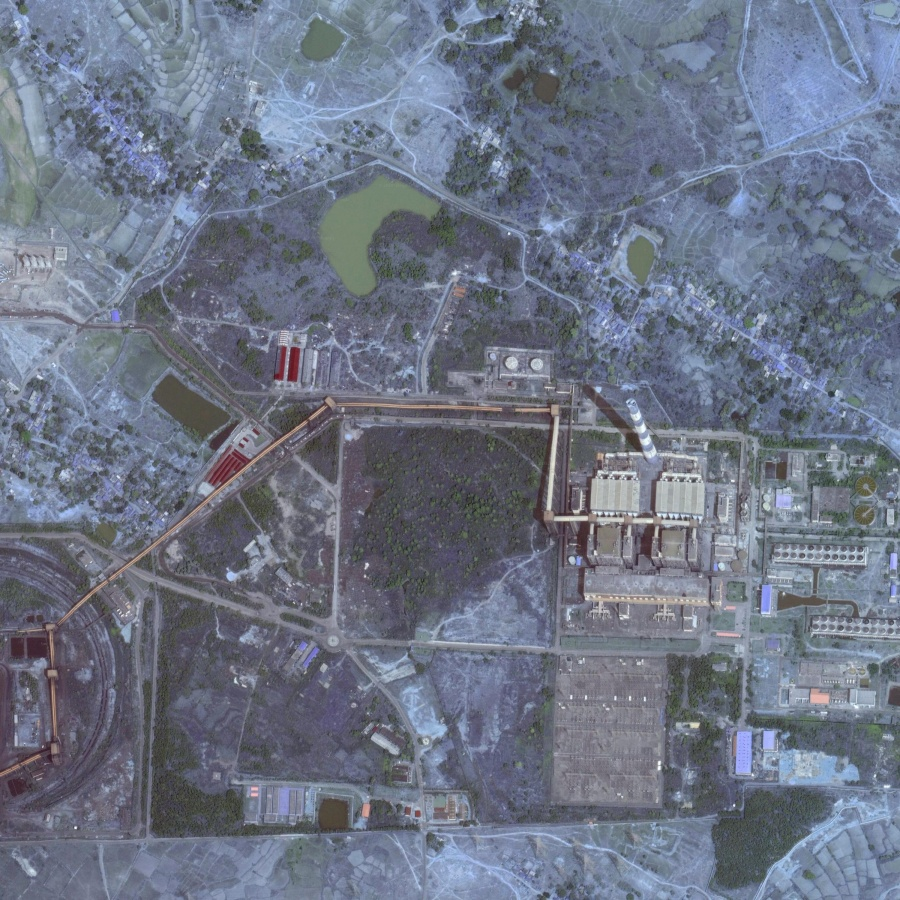PowerPlant: (557, 359, 711, 492)
